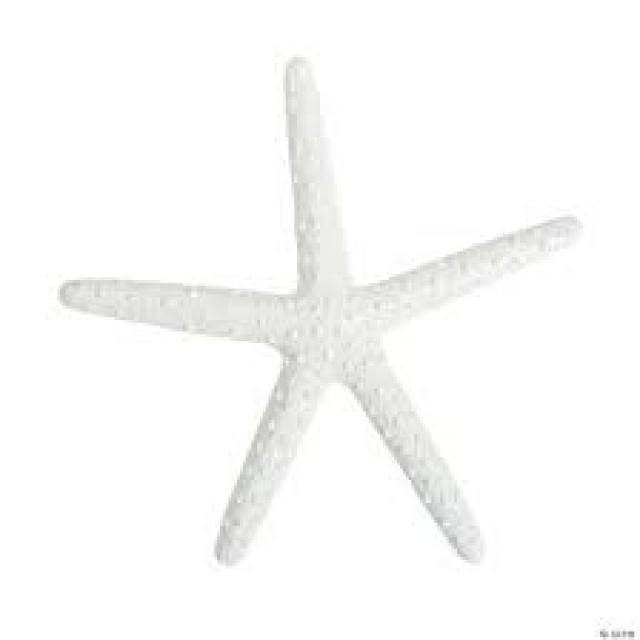starfish: (60, 60, 577, 560)
